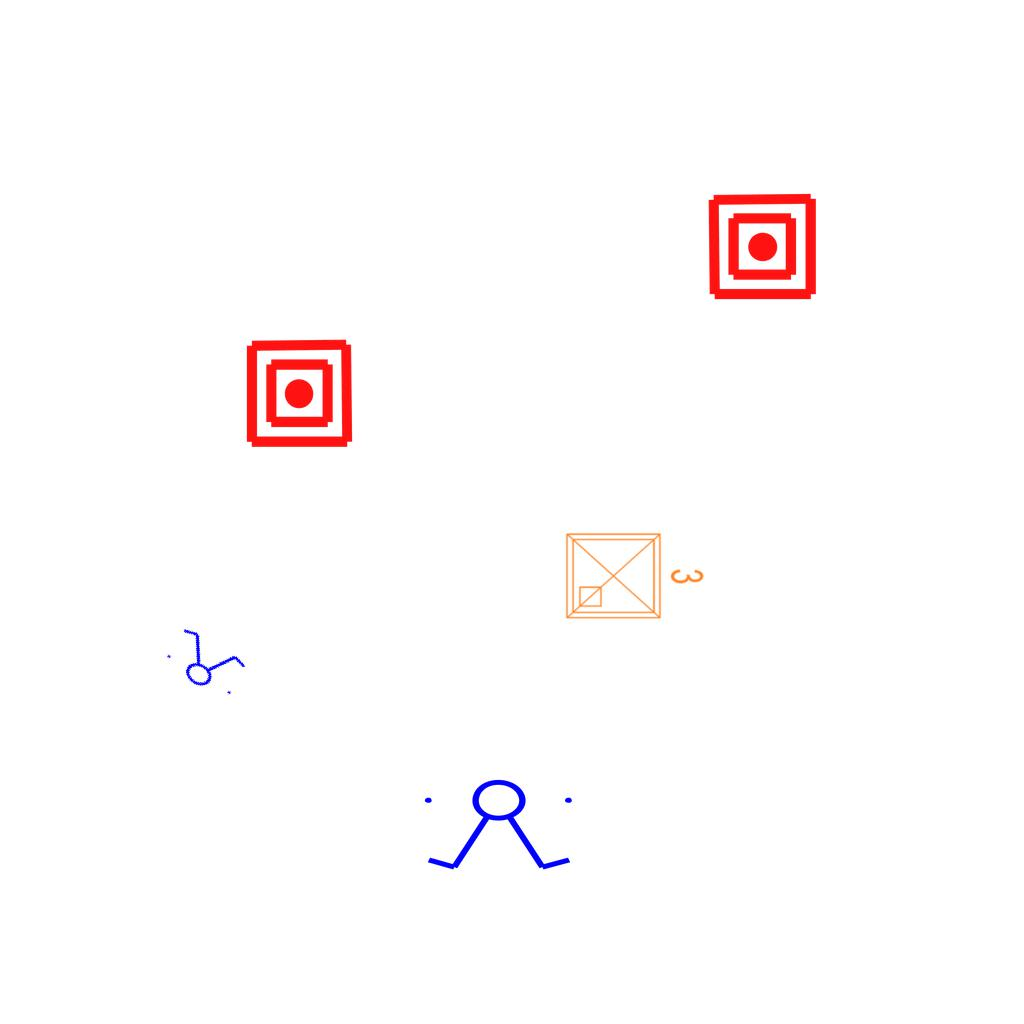Einbaudownlights_LED_Konferenzraeume: (559, 522, 709, 626)
NAM-Nichtautomatischer_Melder: (706, 190, 819, 303), (243, 337, 356, 450)
Serienschalter: (416, 778, 584, 874), (156, 620, 254, 706)
